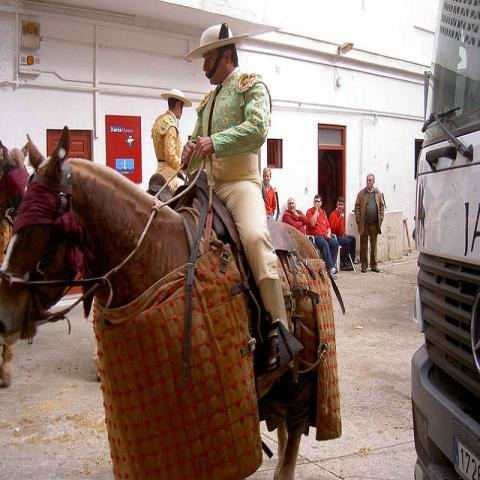bus: (410, 0, 480, 479)
